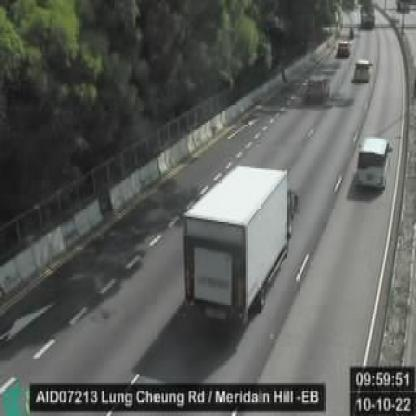Car: (356, 136, 393, 193), (306, 72, 330, 108), (354, 58, 370, 84), (336, 40, 350, 59)
Truck: (184, 162, 294, 332)
